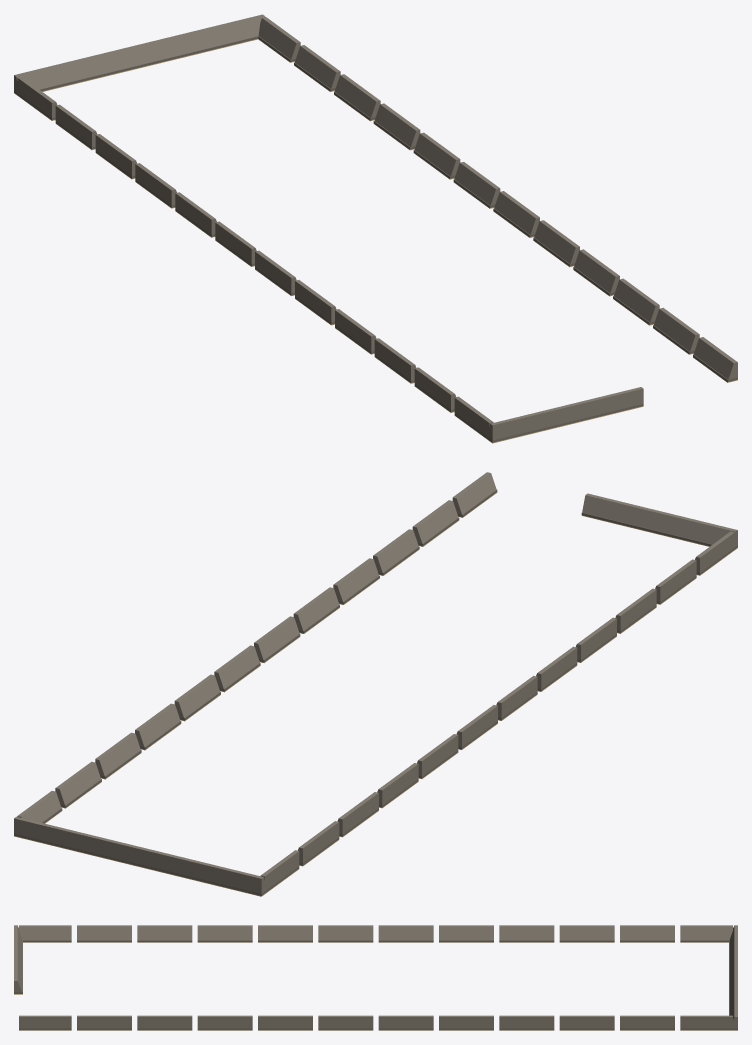
Rendered from batukali.glb.
3 views of the same model, one above another, from view 1: azimuth 30°, elevation 25°; view 2: azimuth 150°, elevation 25°; view 3: azimuth 270°, elevation 25° (orthographic). The views are drawn at different scales.
Visible parts, largest first — view 1: batukali; view 2: batukali; view 3: batukali.
Boxes of the visible parts, x1=… form: batukali: x1=14, y1=14, x2=737, y2=443; batukali: x1=14, y1=472, x2=737, y2=896; batukali: x1=14, y1=925, x2=737, y2=1030.
Bounding box in the file's own units: 18 × 1.25 × 60.
